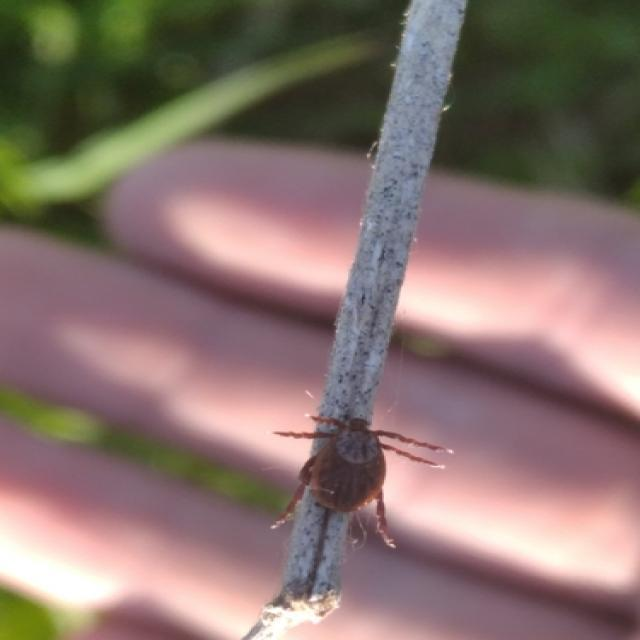Dermacentor Reticulatus-F: (270, 415, 456, 549)
